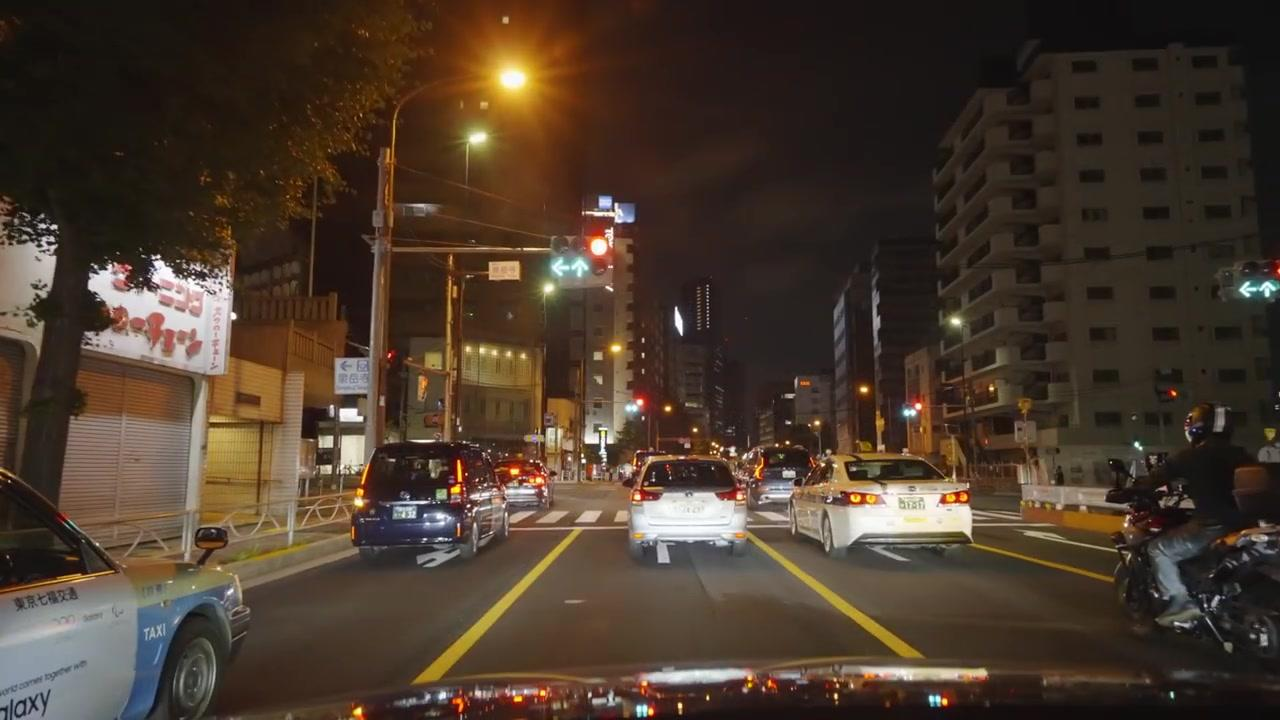car: (0, 465, 251, 715), (350, 439, 510, 566), (786, 452, 974, 558), (627, 455, 748, 565), (747, 445, 812, 510), (491, 458, 554, 513)
motorcycle: (1110, 489, 1280, 669)
person: (1125, 403, 1258, 617)
traffic light: (1230, 260, 1280, 301), (549, 235, 591, 280), (583, 216, 613, 277), (1155, 368, 1184, 403), (1018, 397, 1032, 415), (635, 394, 648, 413)
